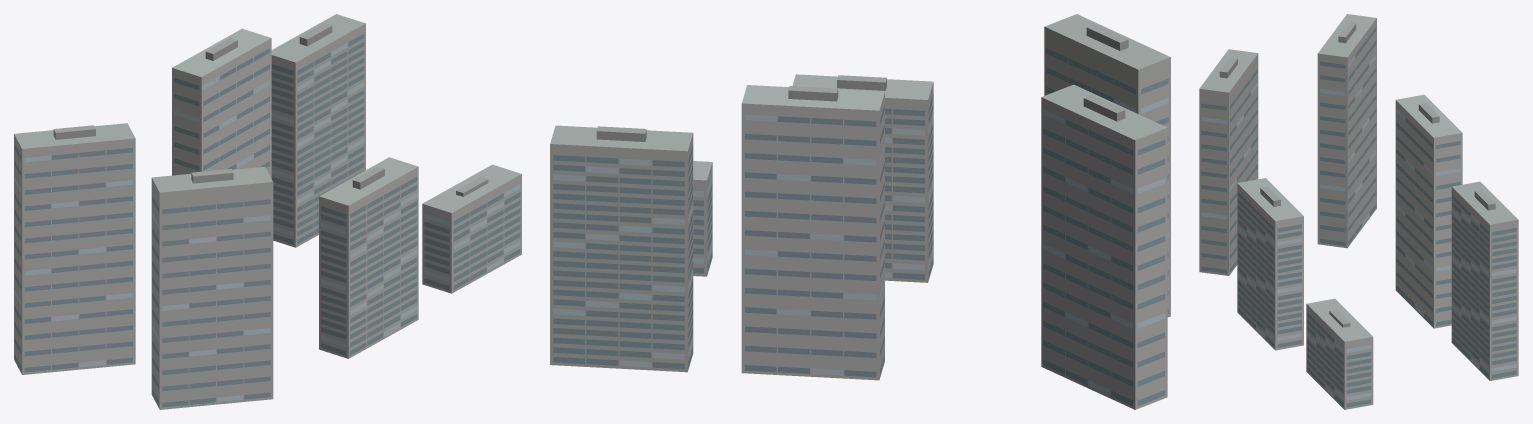
Rendered from apt-a10025562.glb.
The picture shows the model from 3 angles, left to right: view 1: azimuth 30°, elevation 25°; view 2: azimuth 150°, elevation 25°; view 3: azimuth 270°, elevation 25°; orthographic projection. The views are drawn at different scales.
Parts seen in each view (by area): view 1: apt-a10025562; view 2: apt-a10025562; view 3: apt-a10025562.
Part boxes in pixels (x1,y1,x2,y2): apt-a10025562: (14,14,521,409); apt-a10025562: (550,14,1170,409); apt-a10025562: (1199,14,1518,409).
Bounding box in the file's own units: 179 × 80 × 118.
